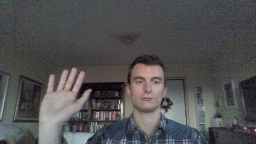Mano_aperta: (37, 65, 94, 128)
